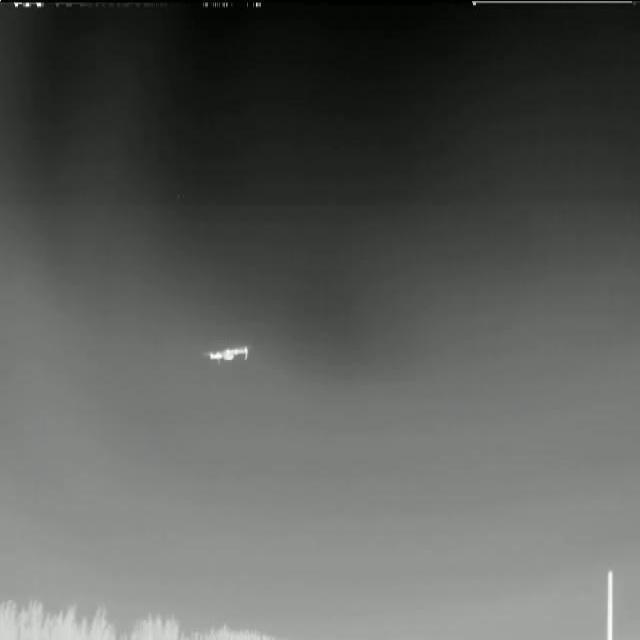DRONE: (196, 332, 263, 372)
